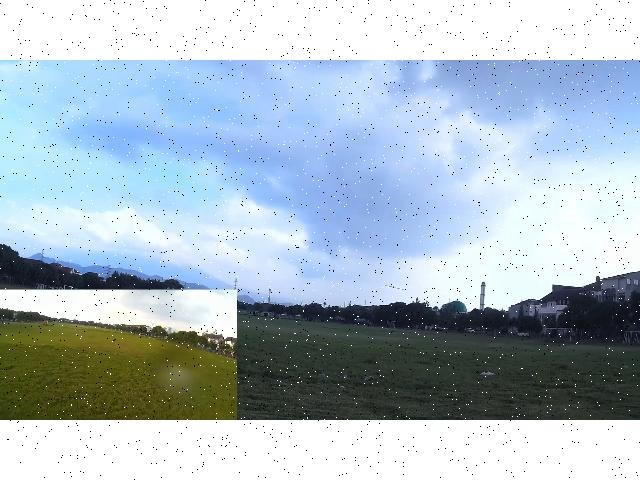Anti-Drone: (384, 284, 406, 290)
